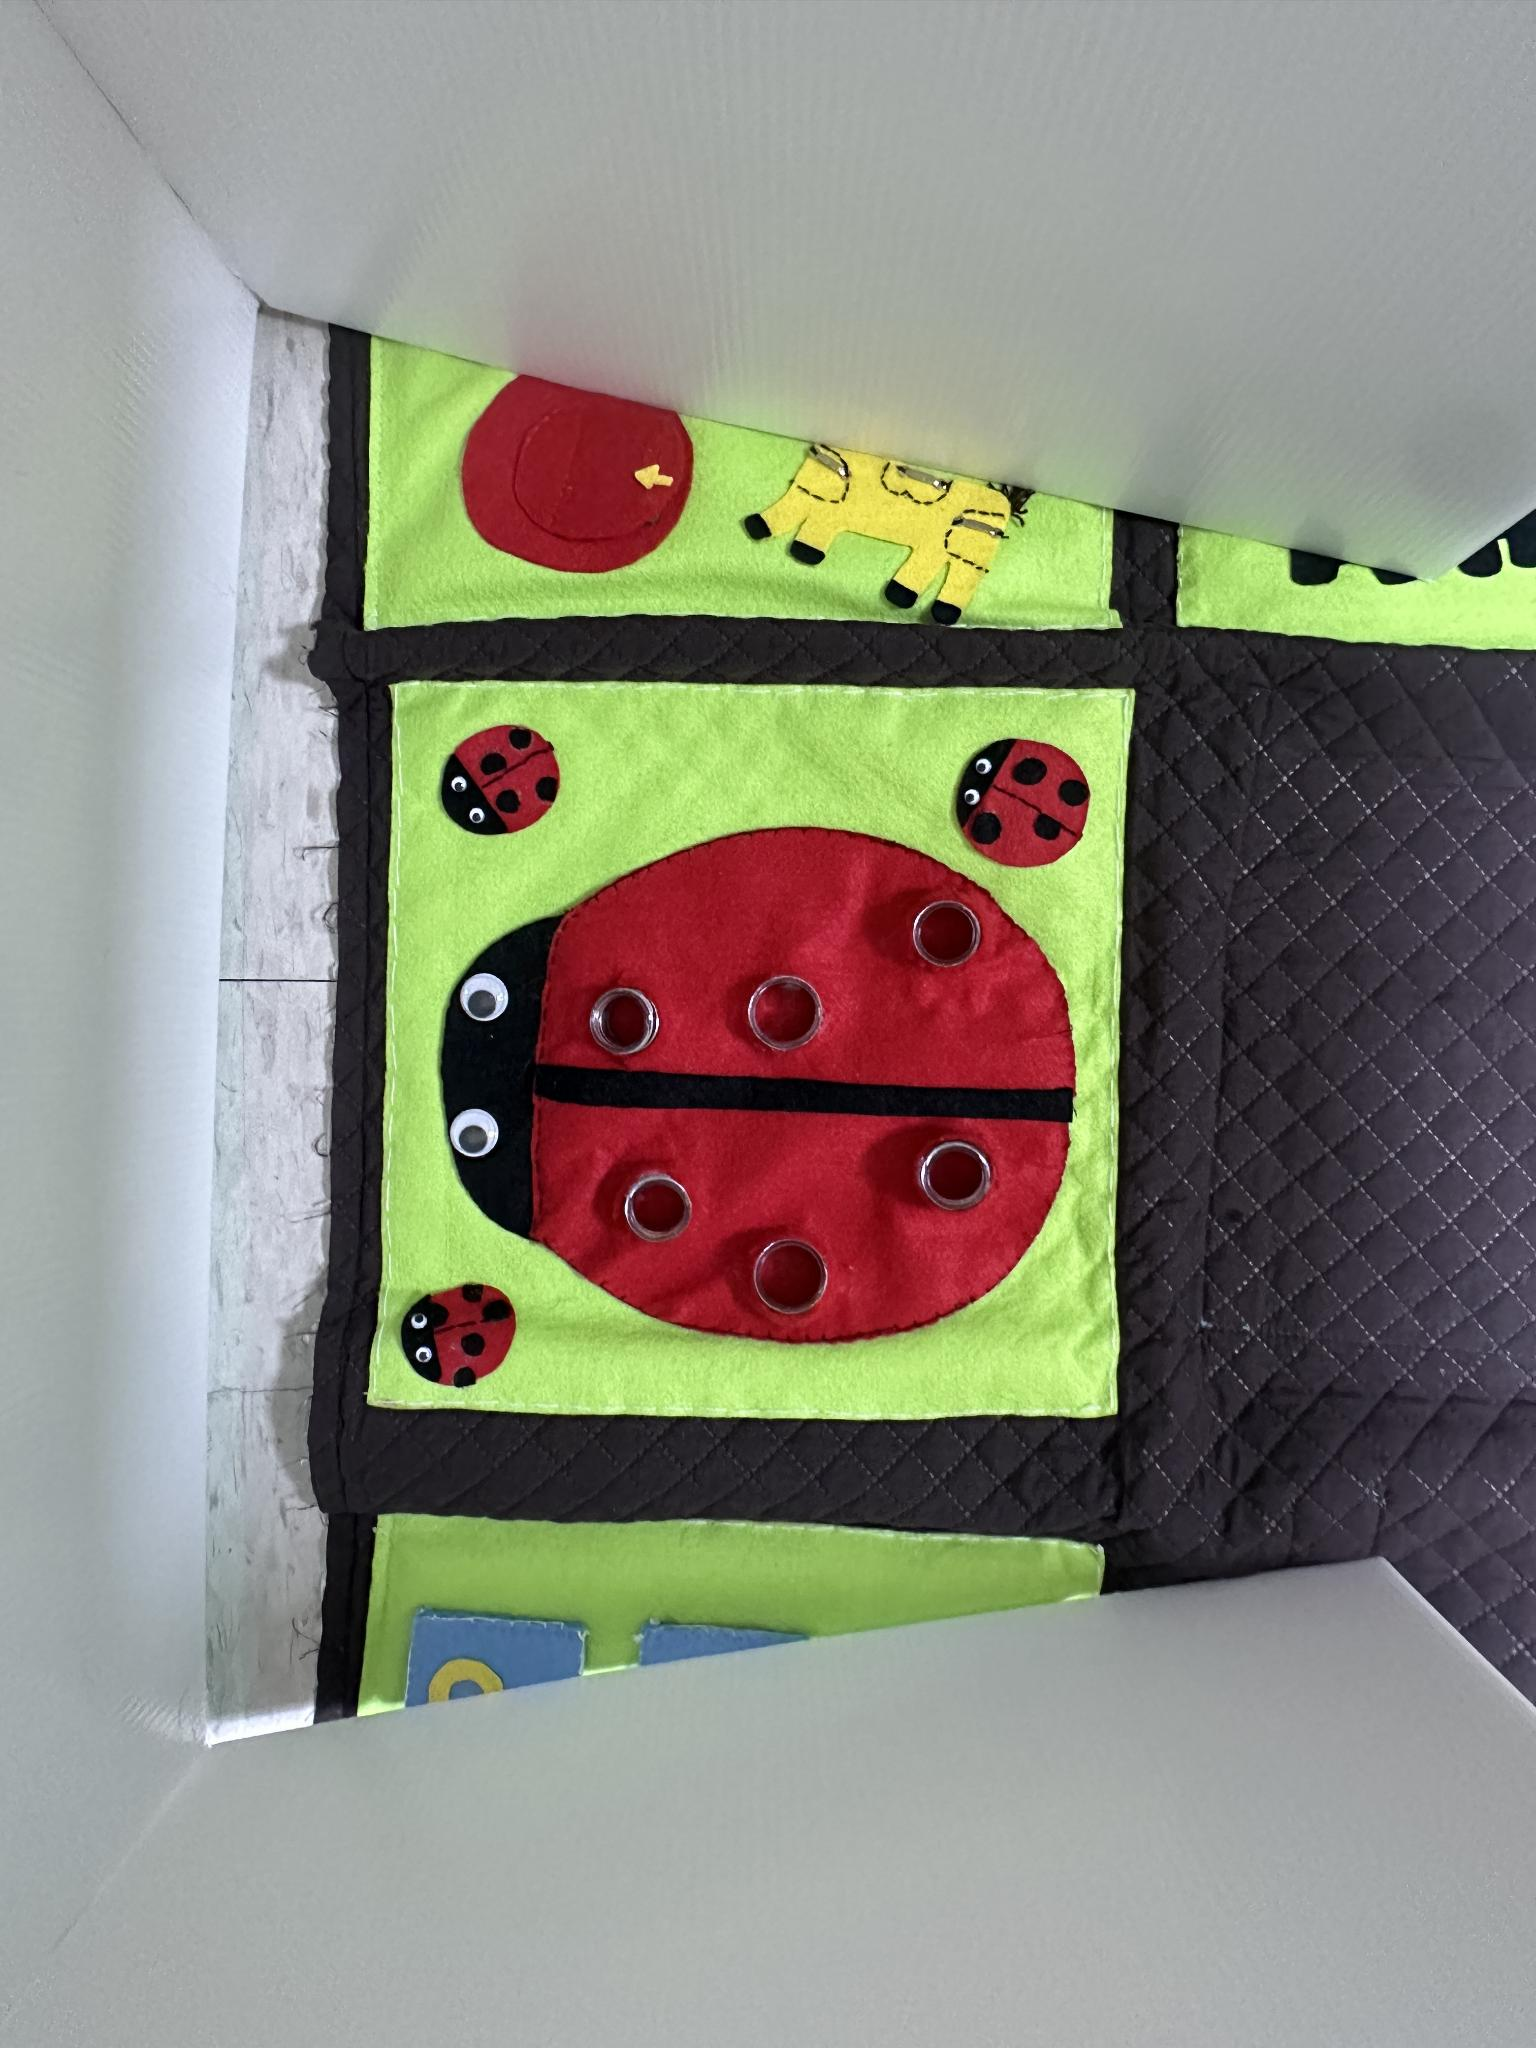hole: (744, 1230, 834, 1319), (742, 972, 828, 1055), (915, 1138, 989, 1214), (581, 987, 660, 1056), (621, 1174, 689, 1247), (912, 900, 978, 969)
ladybug_case: (428, 824, 1078, 1347)
